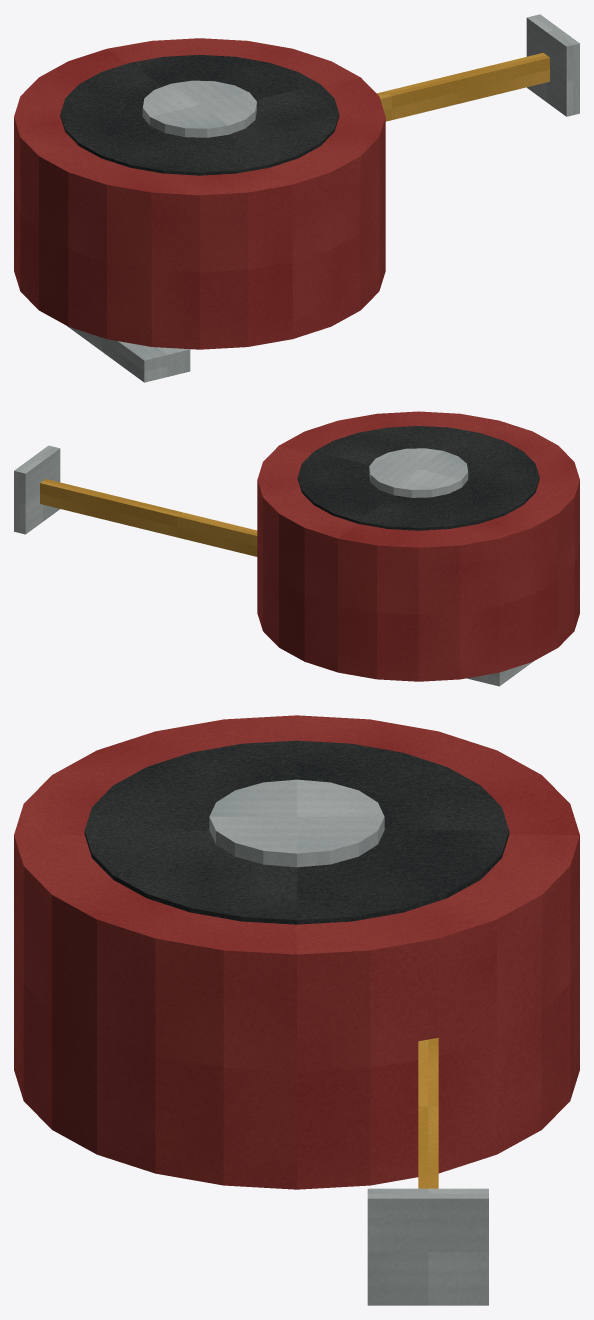
The model's file is PROJECT_Z_Pickup_TapeMeasure.glb.
The picture shows the model from 3 angles, top to bottom: view 1: azimuth 30°, elevation 25°; view 2: azimuth 150°, elevation 25°; view 3: azimuth 270°, elevation 25°; orthographic projection. The views are drawn at different scales.
Parts seen in each view (by area): view 1: TAPE_RoundedCasing, TAPE_CaseSideInset, TAPE_MetalCenterButton, TAPE_MetalTapeStub, TAPE_EndHook, TAPE_BeltClip; view 2: TAPE_RoundedCasing, TAPE_CaseSideInset, TAPE_MetalTapeStub, TAPE_MetalCenterButton, TAPE_EndHook, TAPE_BeltClip; view 3: TAPE_RoundedCasing, TAPE_CaseSideInset, TAPE_EndHook, TAPE_MetalCenterButton, TAPE_MetalTapeStub.
Part boxes in pixels (left/top/right/bottom): TAPE_RoundedCasing: left=14, top=38, right=385, bottom=349; TAPE_CaseSideInset: left=60, top=55, right=339, bottom=175; TAPE_MetalCenterButton: left=142, top=80, right=256, bottom=137; TAPE_MetalTapeStub: left=377, top=53, right=549, bottom=121; TAPE_EndHook: left=526, top=14, right=579, bottom=116; TAPE_BeltClip: left=67, top=326, right=190, bottom=382; TAPE_RoundedCasing: left=257, top=411, right=579, bottom=681; TAPE_CaseSideInset: left=297, top=426, right=539, bottom=530; TAPE_MetalTapeStub: left=40, top=479, right=257, bottom=556; TAPE_MetalCenterButton: left=369, top=448, right=468, bottom=497; TAPE_EndHook: left=14, top=445, right=60, bottom=534; TAPE_BeltClip: left=467, top=661, right=533, bottom=686; TAPE_RoundedCasing: left=14, top=715, right=579, bottom=1189; TAPE_CaseSideInset: left=84, top=740, right=509, bottom=924; TAPE_EndHook: left=367, top=1188, right=488, bottom=1305; TAPE_MetalCenterButton: left=209, top=779, right=384, bottom=867; TAPE_MetalTapeStub: left=418, top=1037, right=438, bottom=1188.
Bounding box in the file's own units: 0.2945 × 0.102 × 0.168.
4 materials, 4 textured.
